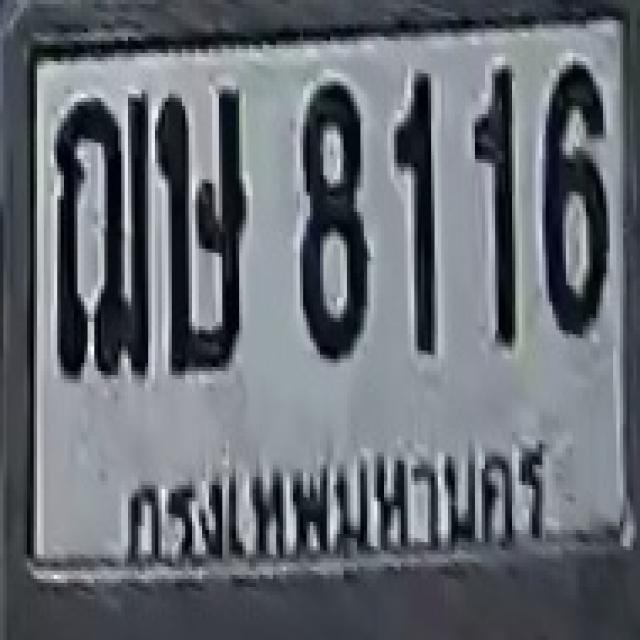1: (472, 69, 516, 310), (472, 65, 516, 294), (392, 69, 433, 302)
6: (542, 61, 606, 334)
8: (298, 80, 366, 352)
A12: (52, 96, 150, 377), (52, 126, 150, 375)
A39: (155, 88, 246, 369)
BKK: (118, 434, 556, 575)
